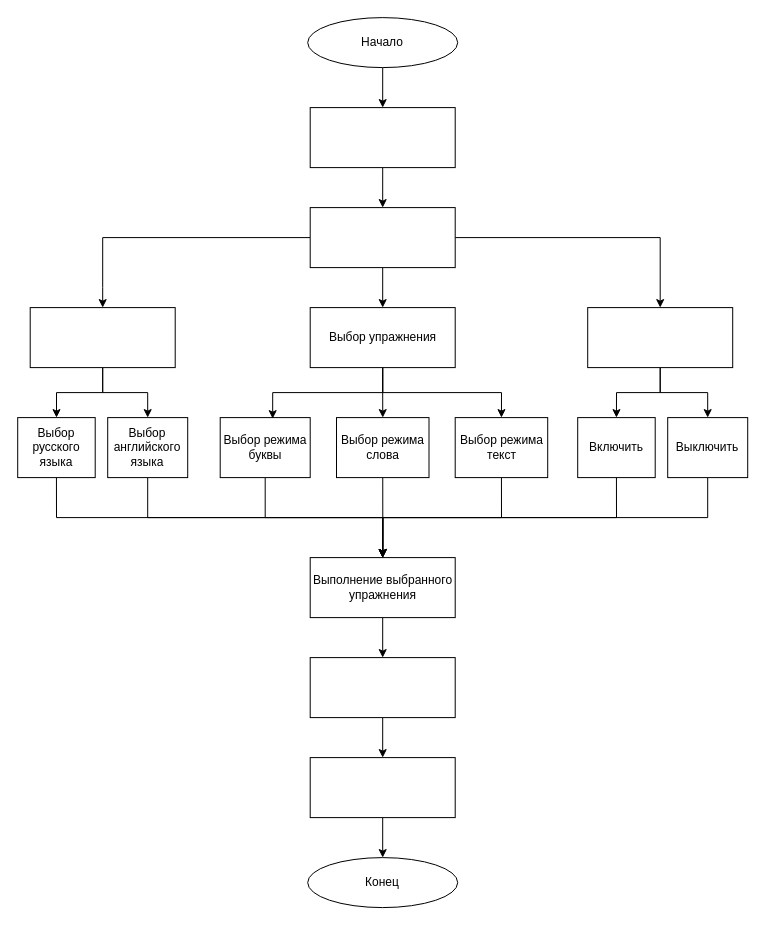
The diagram is 765 pixels wide and 925 high, and some of its shapes have lost their labels. The shapes that lost their labels are listed below. From the top down, each one's centre as x and y in pixels, then its label:
point 382,137: Главное меню приложения
point 382,237: Выбор пользователем необходимых настроек
point 102,337: Выбор языка
point 660,337: Подсветка клавиатуры
point 382,687: Завершение упражнения по его выполнению или истечению времени
point 382,787: Переход к следующему упражнению
